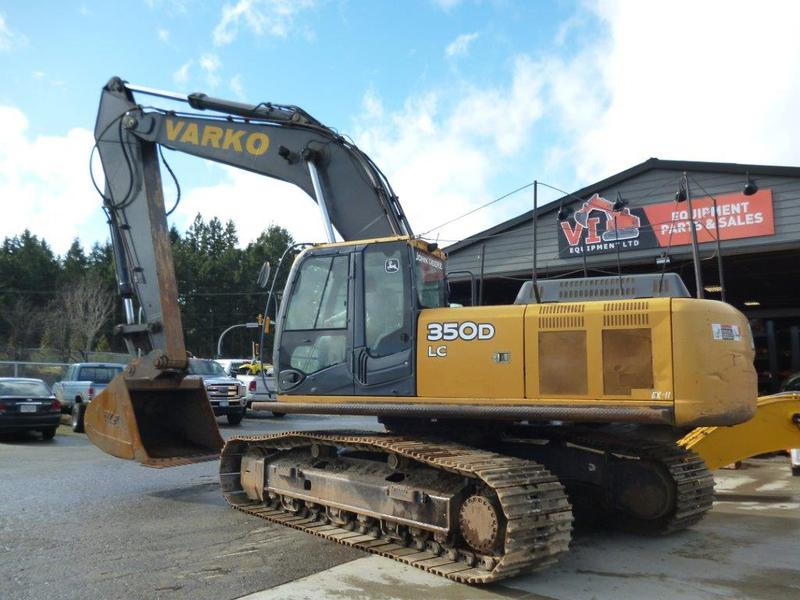shovel: (79, 56, 764, 592)
